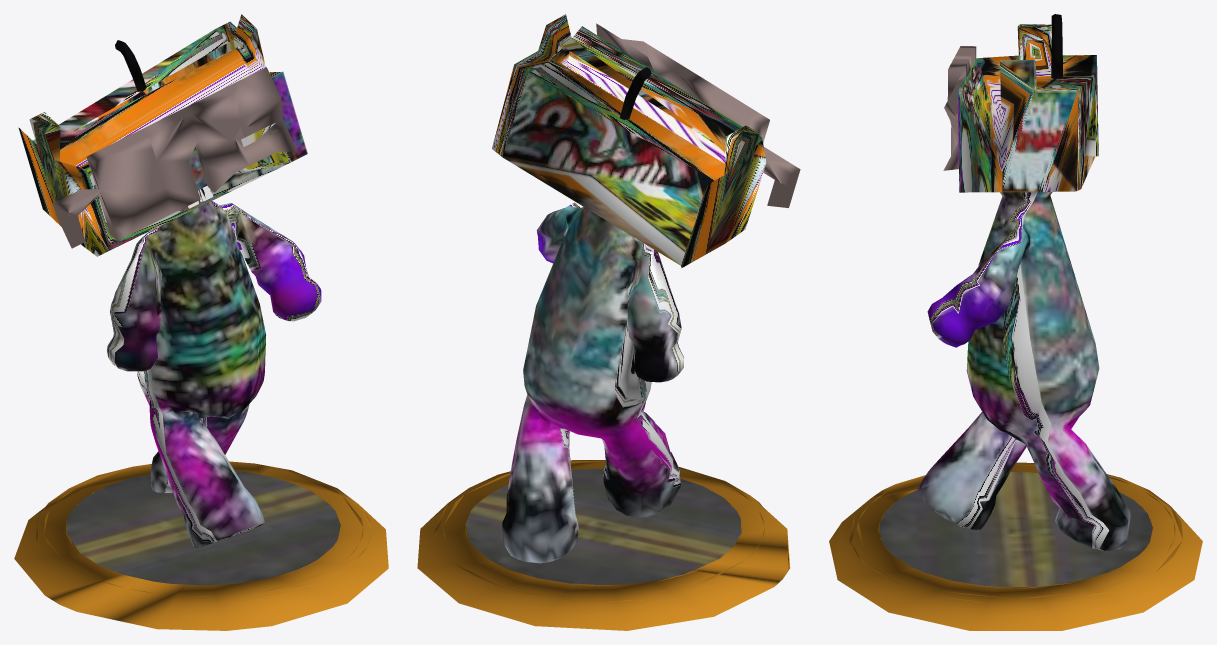
The picture shows the model from 3 angles, left to right: view 1: azimuth 30°, elevation 25°; view 2: azimuth 150°, elevation 25°; view 3: azimuth 270°, elevation 25°; orthographic projection.
Bounding box in the file's own units: 1.45 × 2.19 × 1.43.
7 materials, 4 textured.
